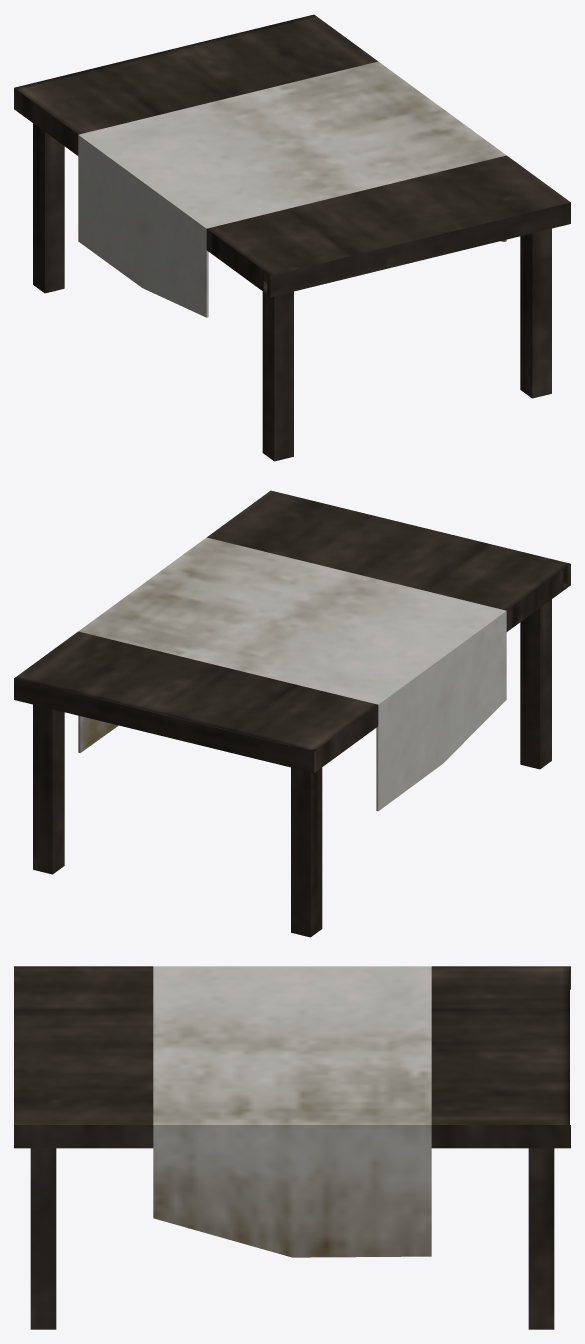
Rendered from SM_EC_Table_1.fbx.
The picture shows the model from 3 angles, top to bottom: view 1: azimuth 30°, elevation 25°; view 2: azimuth 150°, elevation 25°; view 3: azimuth 270°, elevation 25°; orthographic projection. The views are drawn at different scales.
Visible parts, largest first — view 1: SM_EC_Table_1; view 2: SM_EC_Table_1; view 3: SM_EC_Table_1.
Boxes of the visible parts, x1,y1,x2,y2 form: SM_EC_Table_1: [14, 14, 570, 461]; SM_EC_Table_1: [14, 490, 570, 937]; SM_EC_Table_1: [14, 966, 570, 1329].
Size of the model in its own units: 1.46 by 2.17 by 0.9042.
